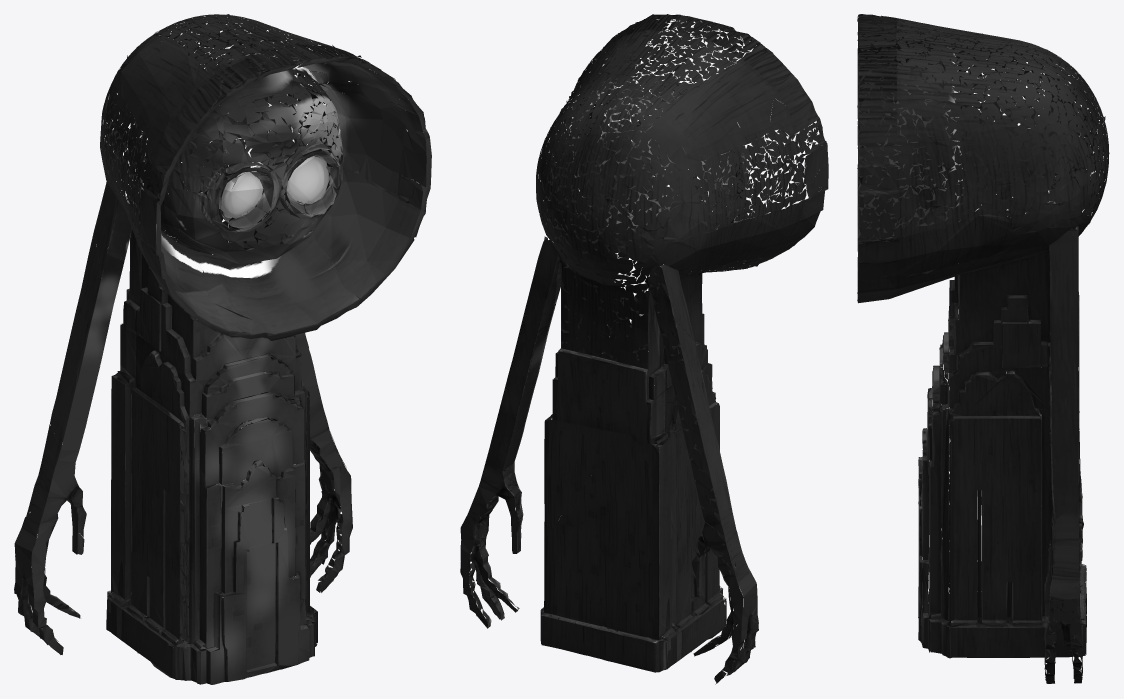
Rendered from horror_steve_5.obj.
3 views of the same model, side by side, from view 1: azimuth 30°, elevation 25°; view 2: azimuth 150°, elevation 25°; view 3: azimuth 270°, elevation 25° (orthographic). The views are drawn at different scales.
Parts seen in each view (by area): view 1: head, body, right_arm, left_arm; view 2: head, body, right_arm, left_arm; view 3: head, body, left_arm, right_arm.
Part boxes in pixels (x1=…): head: x1=100, y1=14, x2=431, y2=340; body: x1=106, y1=171, x2=336, y2=684; right_arm: x1=14, y1=182, x2=130, y2=654; left_arm: x1=229, y1=140, x2=352, y2=592; head: x1=536, y1=14, x2=828, y2=336; body: x1=540, y1=252, x2=726, y2=672; right_arm: x1=654, y1=269, x2=758, y2=684; left_arm: x1=460, y1=240, x2=567, y2=628; head: x1=857, y1=14, x2=1109, y2=303; body: x1=918, y1=201, x2=1086, y2=658; left_arm: x1=1044, y1=241, x2=1082, y2=683; right_arm: x1=1050, y1=176, x2=1083, y2=565.
Bounding box in the file's own units: 0.5288 × 1 × 0.3855.
Materials: 2 (1 with a texture image).
